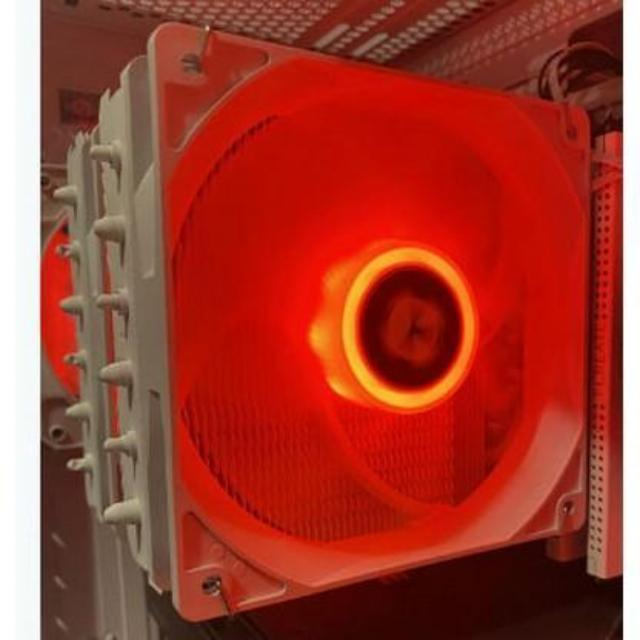CPU_Fan: (59, 36, 586, 590)
